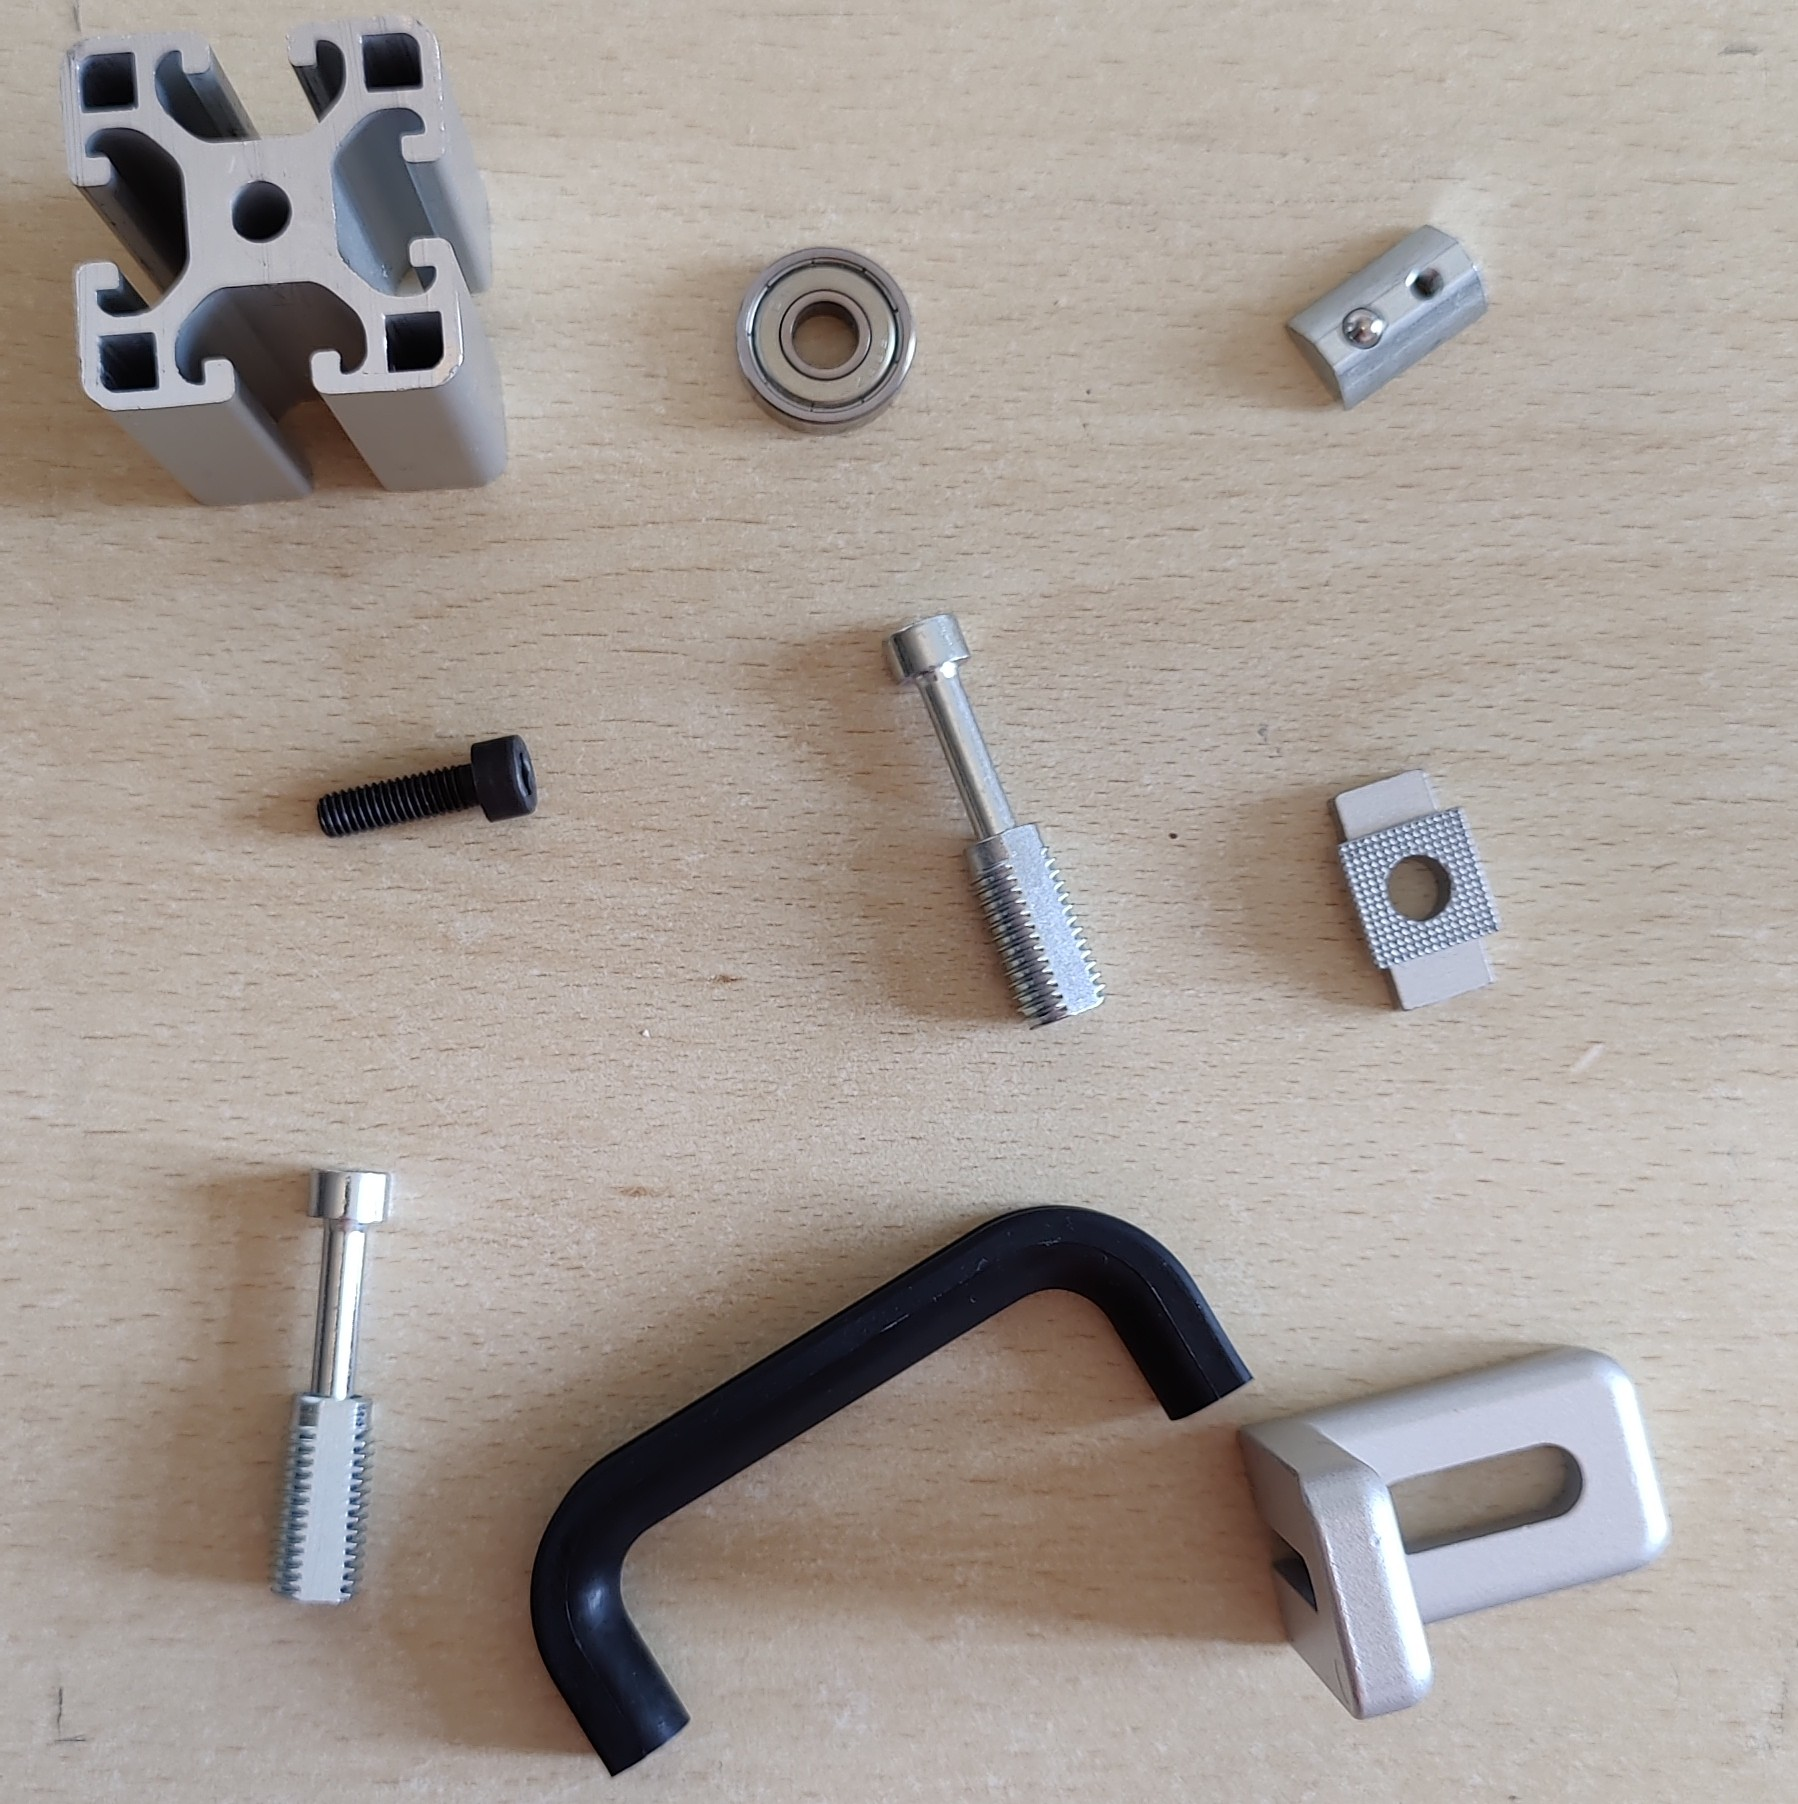Aluminium Extension: (58, 10, 514, 509)
Ball Bearing: (733, 242, 920, 436)
Multiwinkel: (1233, 1341, 1675, 1723)
Pull Handle: (529, 1202, 1255, 1783)
Shoulder Socket Head Cap Screw: (878, 611, 1110, 1034), (265, 1162, 398, 1610)
Socket Head Cap Screw: (314, 729, 542, 841)
T Nut Square: (1325, 765, 1503, 1014)
T Spring Nut: (1283, 217, 1488, 415)
